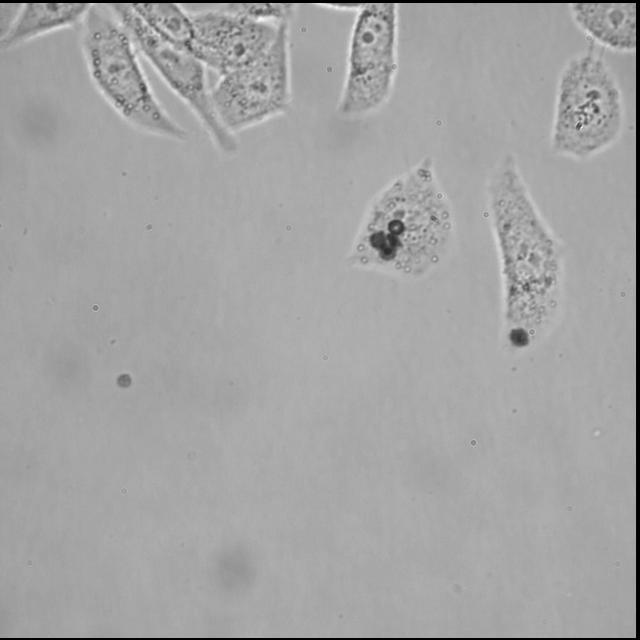microbeads: (387, 216, 409, 242)
